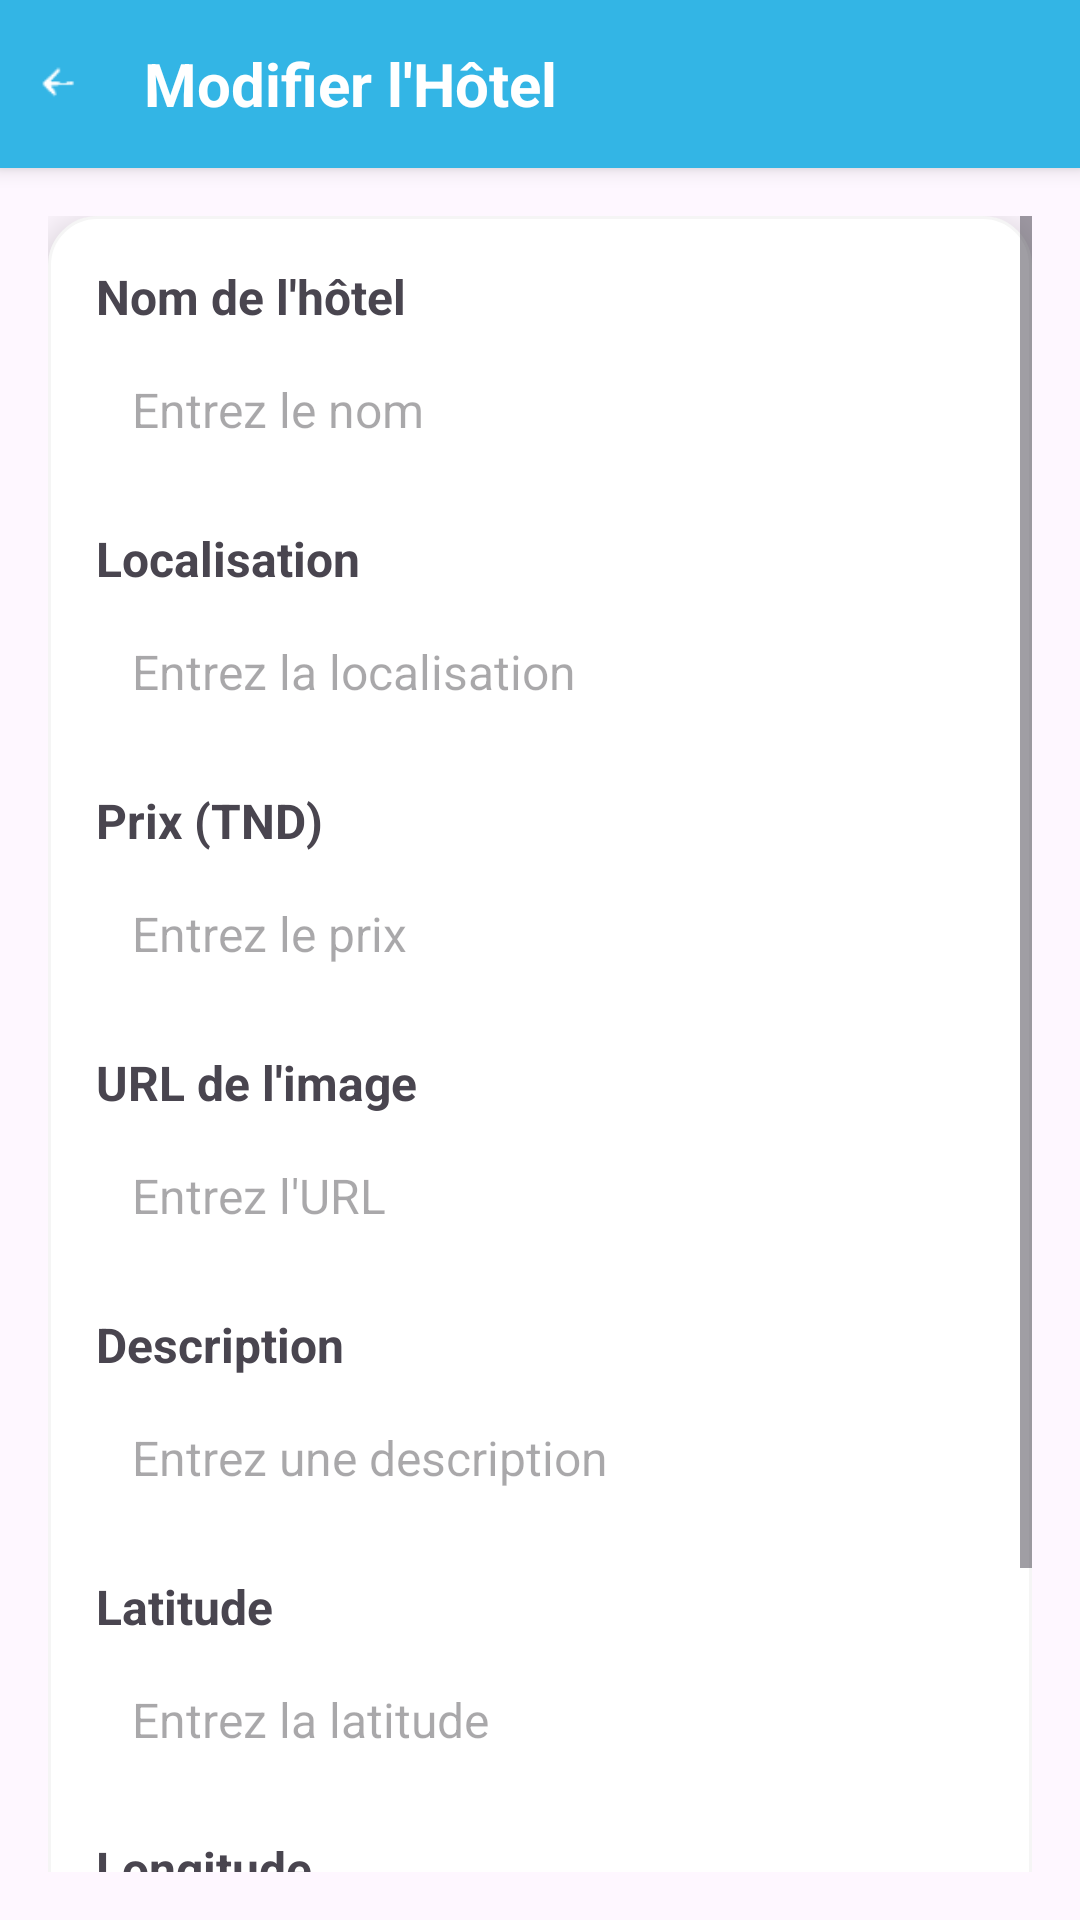

Named icons in this screenshot (1080x1920) and their bounding boxes, rect(x1, y1, x2, y2):
Retour: rect(42, 67, 74, 96)
